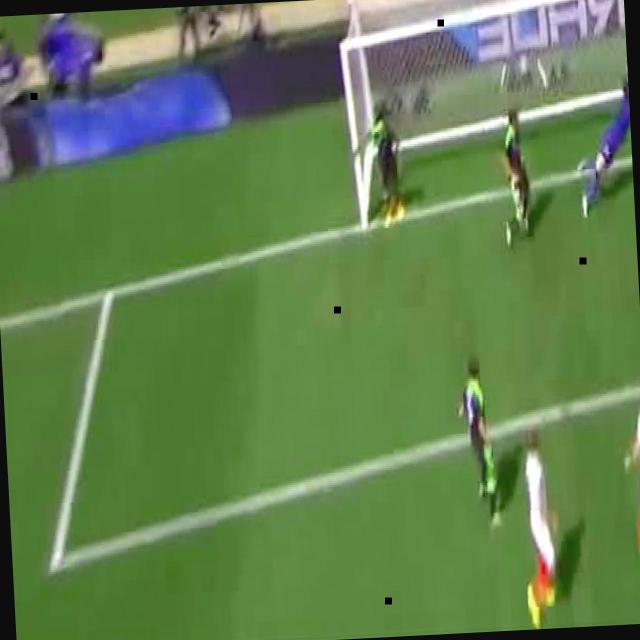player-white: (571, 74, 635, 218), (517, 430, 563, 630), (453, 357, 502, 528), (497, 107, 533, 249), (367, 100, 404, 228), (621, 380, 640, 584)
